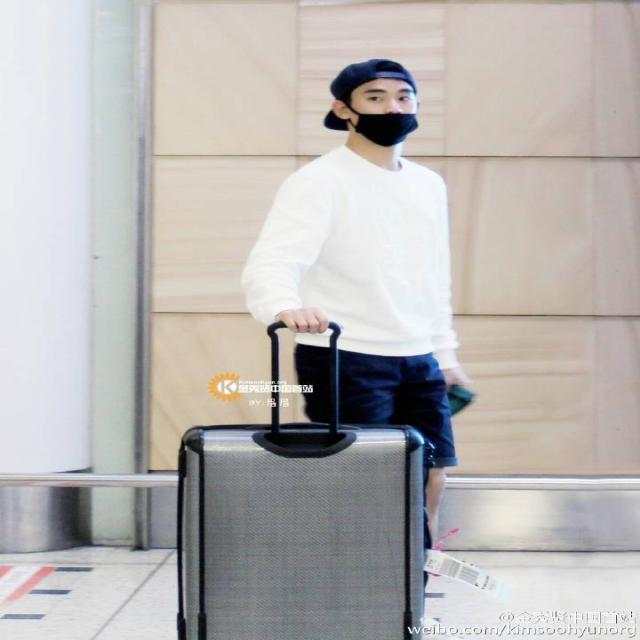hairnet: (350, 81, 416, 145)
